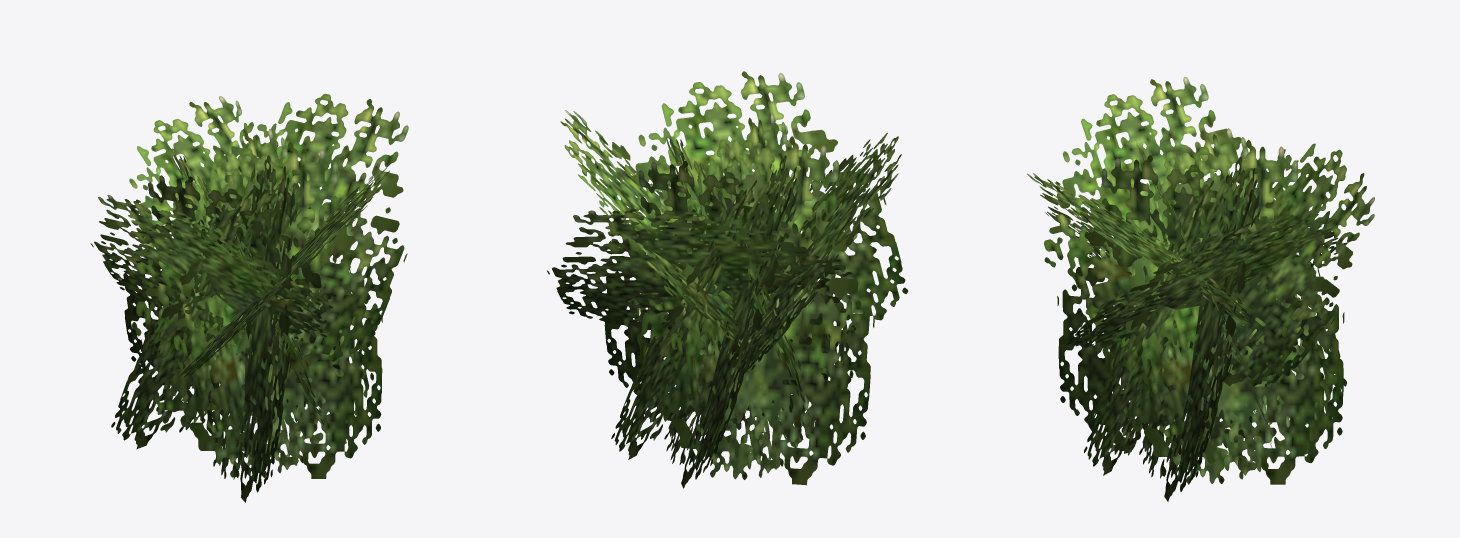
The model's file is bush_tempe_la_lush_1.glb.
3 renders of one model, left to right at view 1: azimuth 30°, elevation 25°; view 2: azimuth 150°, elevation 25°; view 3: azimuth 270°, elevation 25°, orthographic. The views are drawn at different scales.
Parts seen in each view (by area): view 1: bush_tempe_la_lush_1; view 2: bush_tempe_la_lush_1; view 3: bush_tempe_la_lush_1.
Boxes of the visible parts, box(x1,y1,x2,y2) form: bush_tempe_la_lush_1: box(90, 93, 408, 502); bush_tempe_la_lush_1: box(547, 71, 908, 488); bush_tempe_la_lush_1: box(1027, 77, 1374, 501).
Bounding box in the file's own units: 3.92 × 3.33 × 3.83.
1 material, 1 textured.
